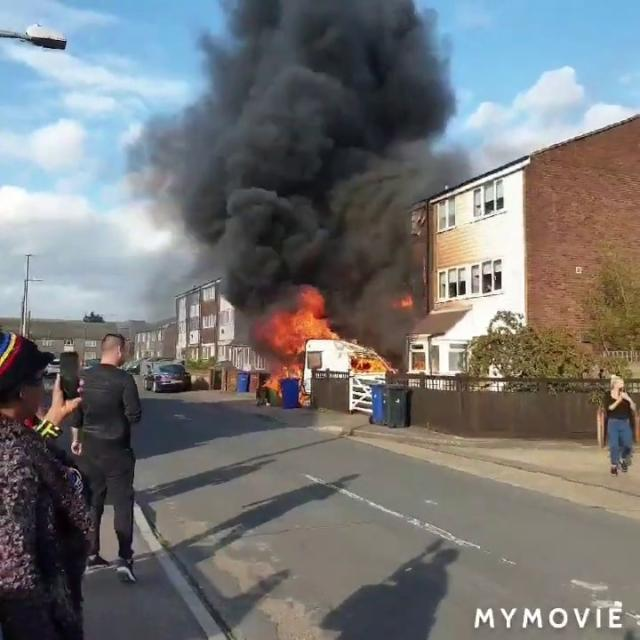Fire: (262, 290, 341, 380), (334, 329, 390, 379)
Smoke: (142, 0, 470, 307)
